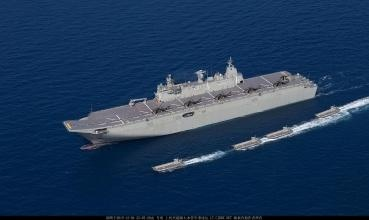warship: (59, 52, 320, 144), (156, 156, 186, 175), (264, 124, 297, 140), (233, 134, 263, 151), (315, 108, 343, 123)
